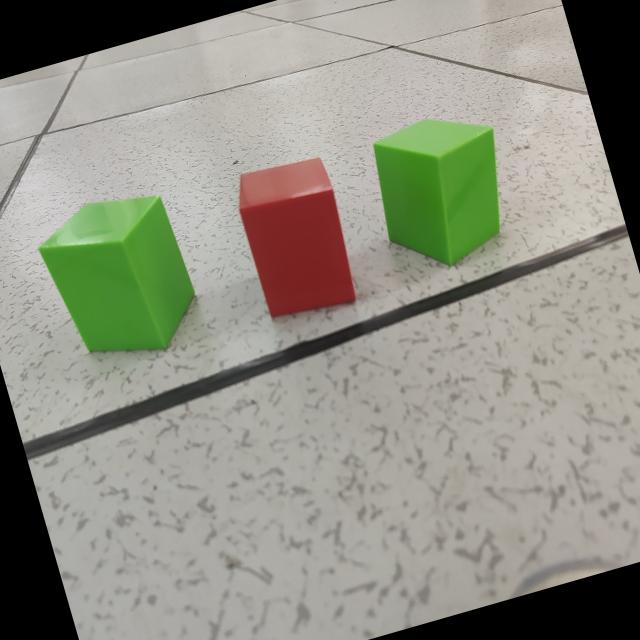green: (38, 196, 195, 355), (372, 119, 501, 266)
red: (240, 158, 358, 320)
